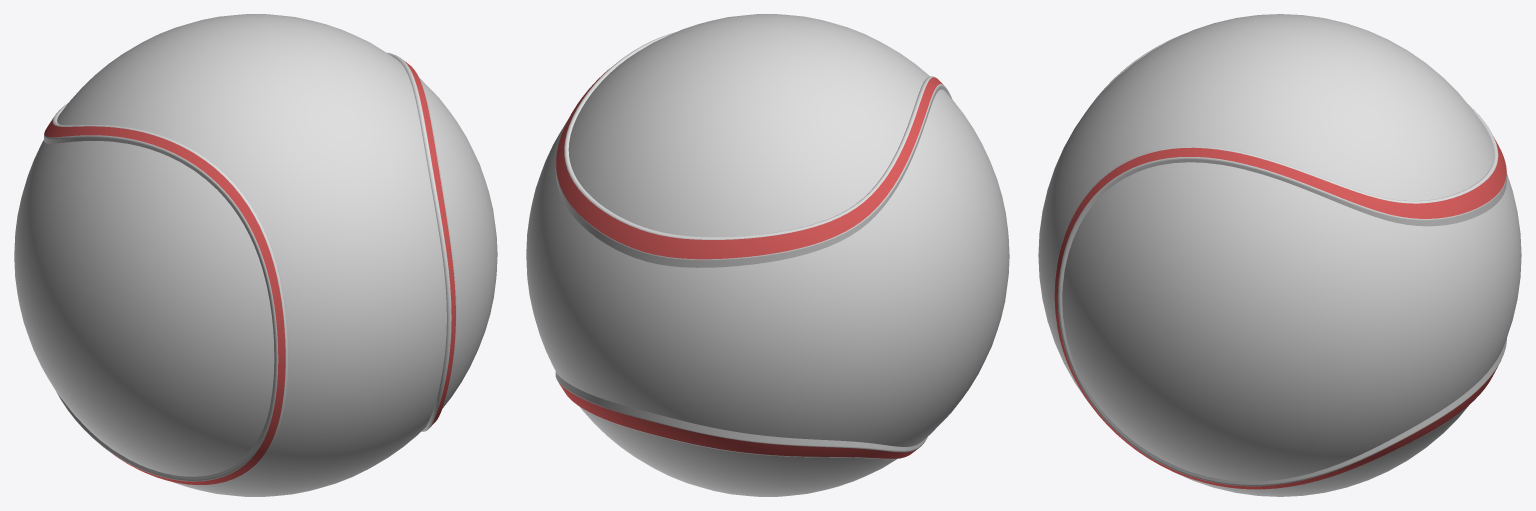
File: secondBall.glb
The picture shows the model from 3 angles, left to right: view 1: azimuth 30°, elevation 25°; view 2: azimuth 150°, elevation 25°; view 3: azimuth 270°, elevation 25°; orthographic projection.
Visible parts, largest first — view 1: Default - Part 2, Default - Part; view 2: Default - Part 2, Default - Part; view 3: Default - Part 2, Default - Part.
Boxes of the visible parts, bbox=[...] form: Default - Part 2: bbox=[14, 14, 497, 496]; Default - Part: bbox=[44, 60, 455, 484]; Default - Part 2: bbox=[526, 14, 1009, 496]; Default - Part: bbox=[556, 68, 943, 458]; Default - Part 2: bbox=[1038, 14, 1521, 496]; Default - Part: bbox=[1054, 136, 1506, 489].
Bounding box in the file's own units: 2 × 2 × 2.
